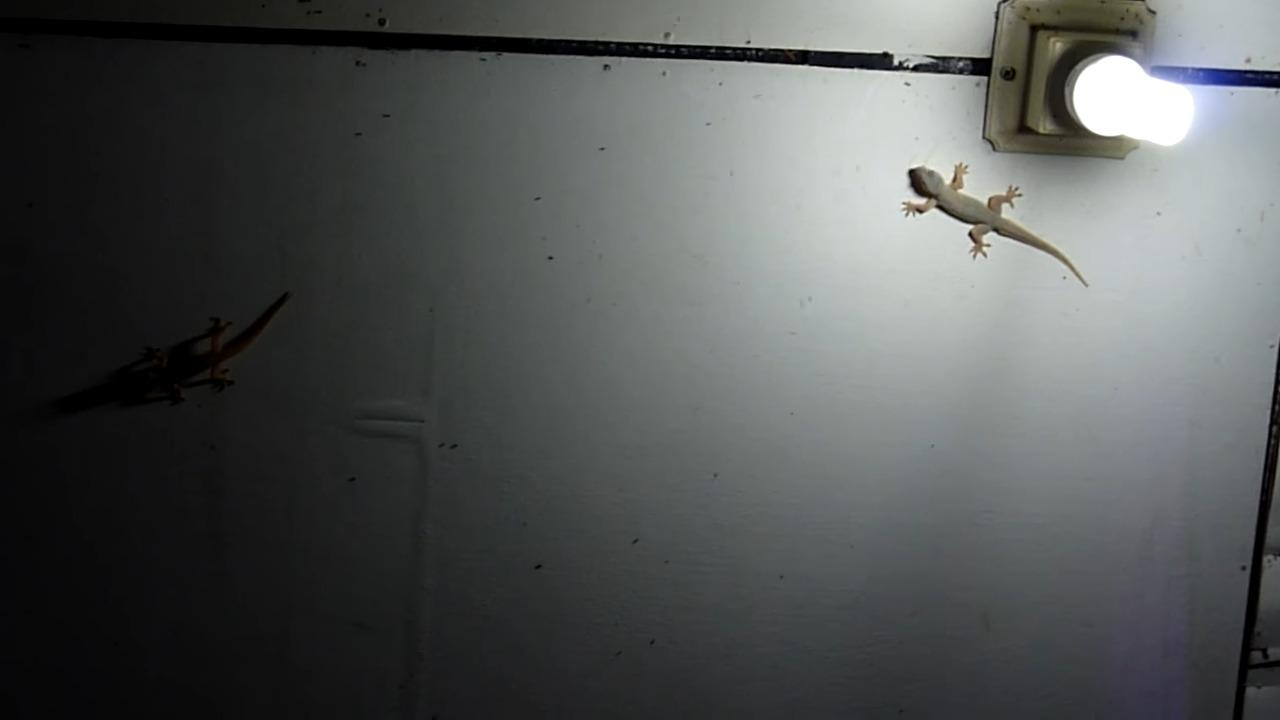lizard: (869, 147, 1111, 288), (104, 282, 320, 439)
